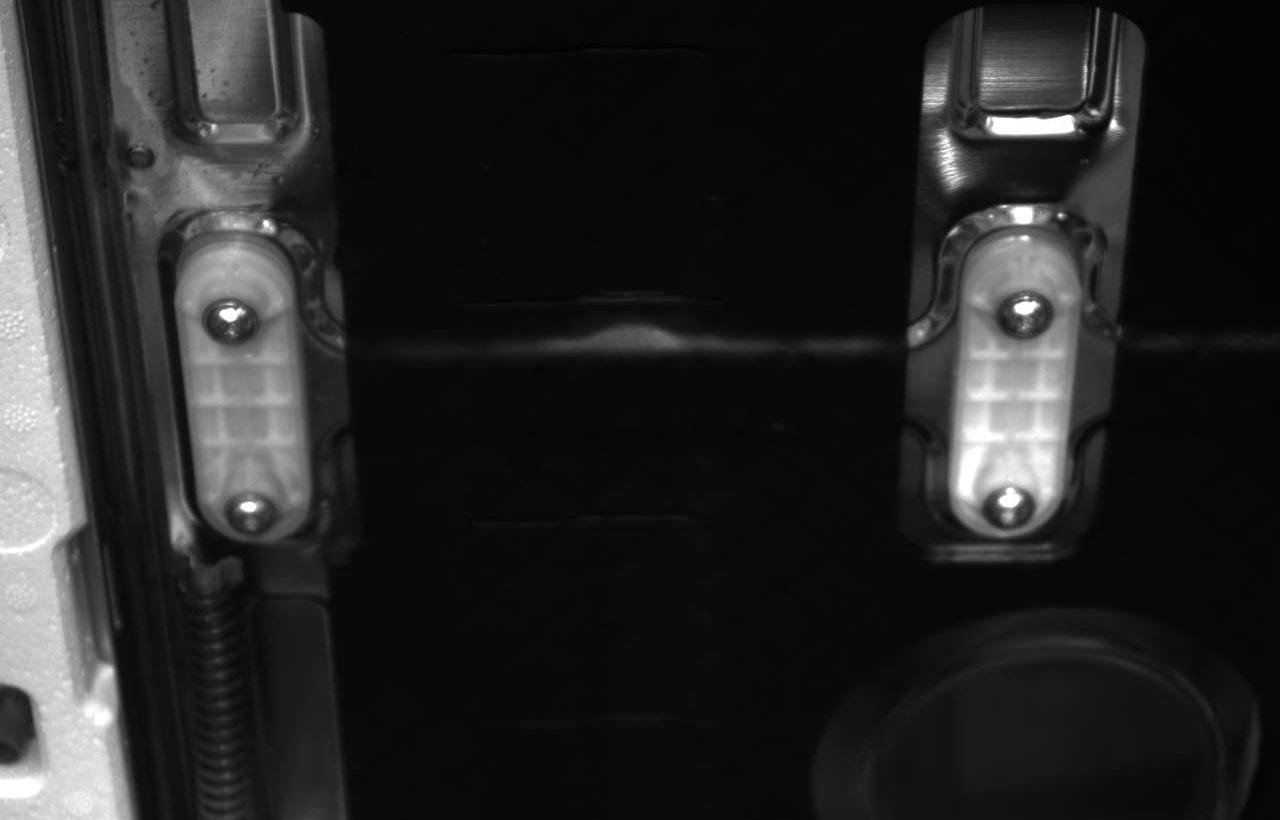vida-ok: (196, 285, 267, 352), (981, 475, 1047, 544), (993, 288, 1060, 355), (221, 481, 287, 539)
